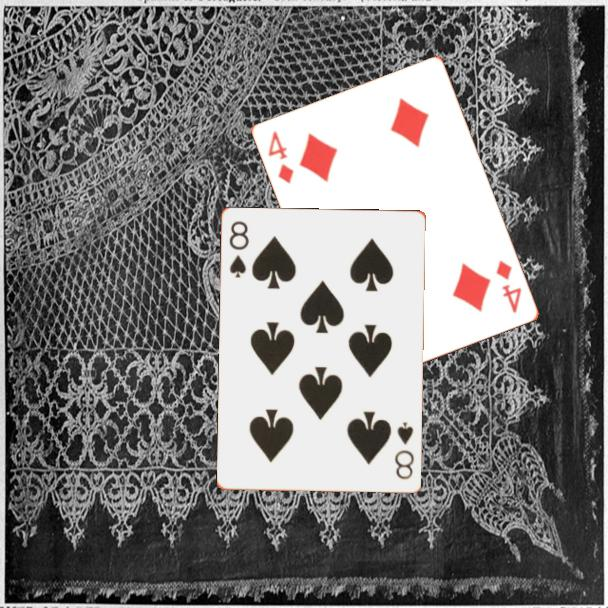d04: (493, 257, 525, 316), (265, 128, 297, 187)
s08: (226, 218, 252, 281), (392, 419, 417, 483)
